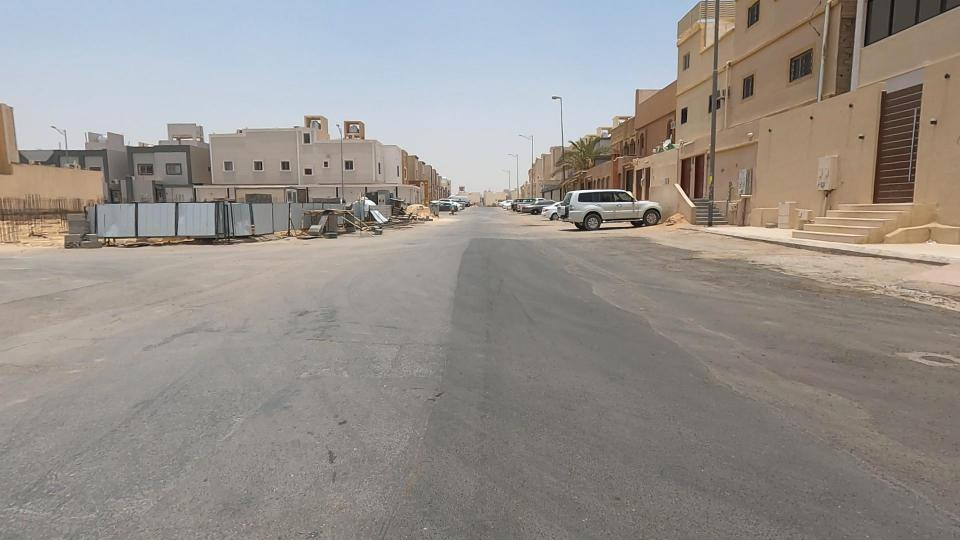GARBAGE: (276, 191, 378, 267), (342, 180, 411, 249)
SAND_ON_ROAD: (635, 185, 716, 248)
